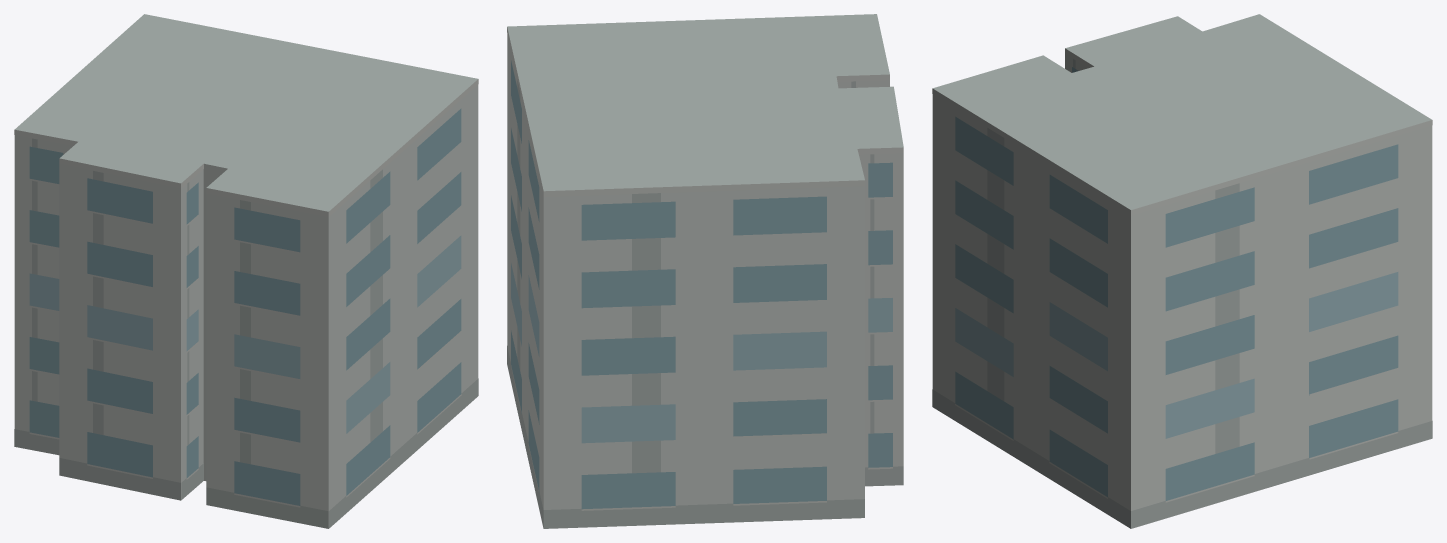
The model's file is survey-upis-33020513.glb.
3 renders of one model, left to right at view 1: azimuth 30°, elevation 25°; view 2: azimuth 150°, elevation 25°; view 3: azimuth 270°, elevation 25°, orthographic. The views are drawn at different scales.
Parts seen in each view (by area): view 1: survey-upis-33020513.tmp; view 2: survey-upis-33020513.tmp; view 3: survey-upis-33020513.tmp.
Part boxes in pixels (box(x1,y1,x2,y2)): survey-upis-33020513.tmp: box(14, 14, 478, 528); survey-upis-33020513.tmp: box(507, 14, 903, 528); survey-upis-33020513.tmp: box(932, 14, 1432, 528).
Bounding box in the file's own units: 18.6 × 14.08 × 20.03.
